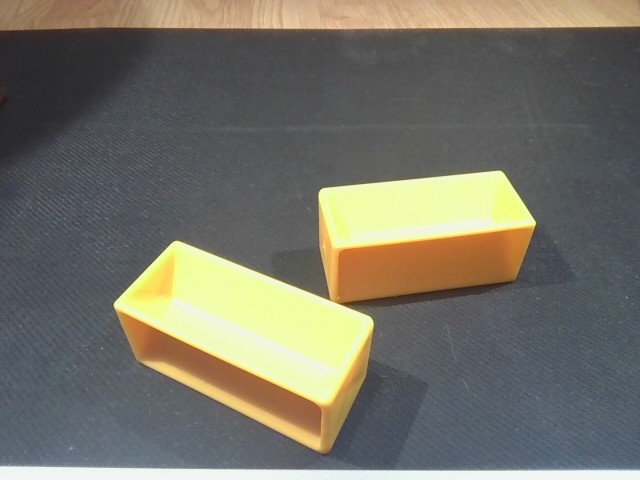YellowSample: (110, 235, 381, 461), (306, 169, 534, 304)
